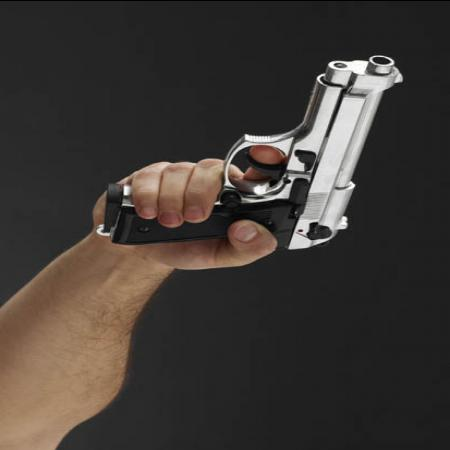Pistol: (102, 48, 412, 243)
